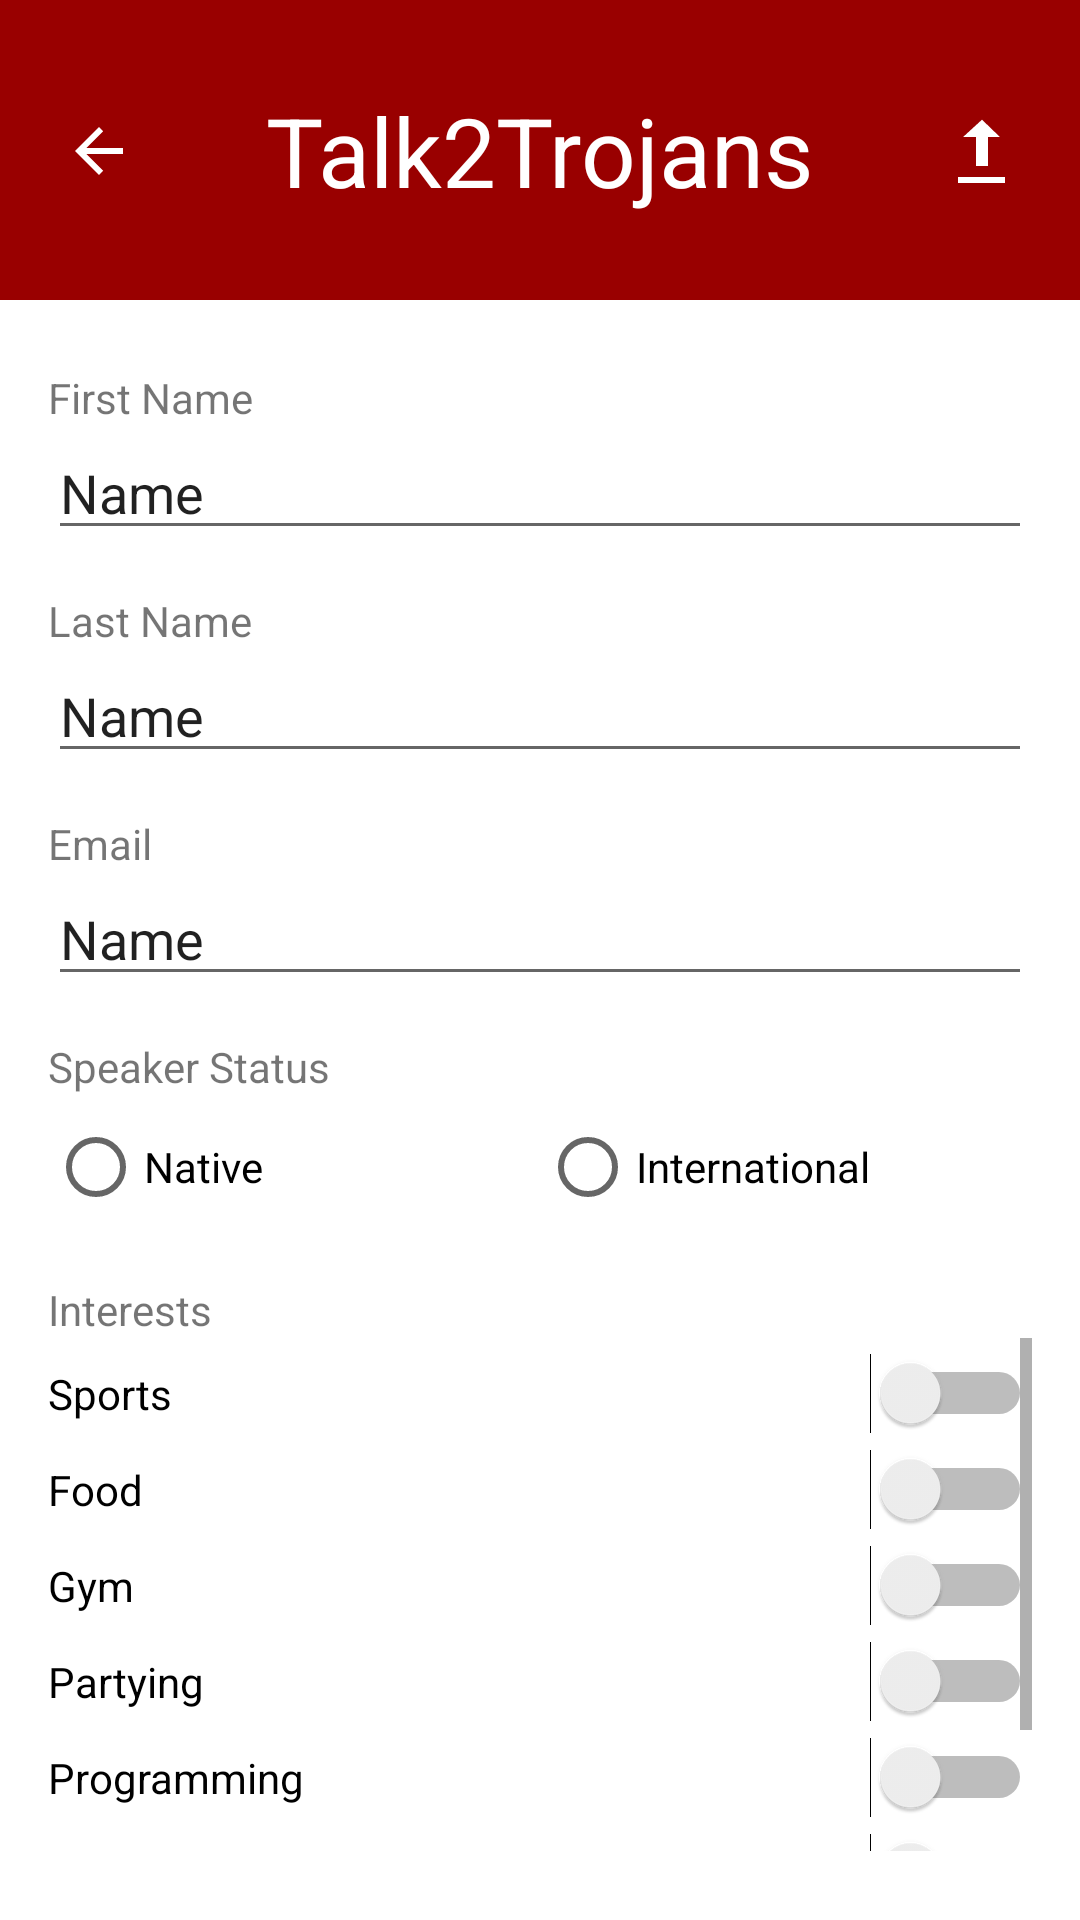

Named icons in this screenshot (1080px x 1920px) and their bounding boxes, [x1, y1, x2, y2]:
upload done: [958, 120, 1005, 183]
